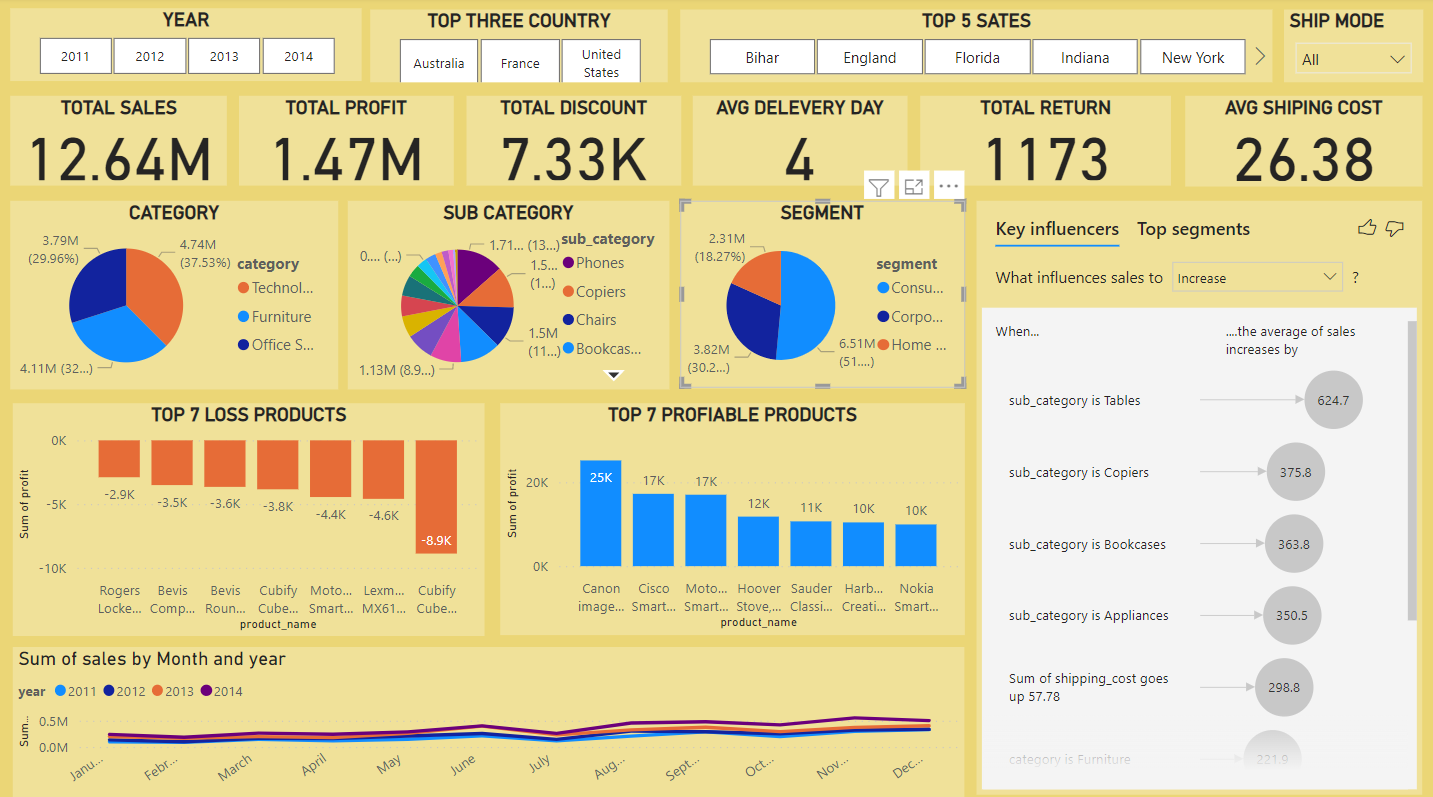

Layout of this report page (visuals, bound fields, positions):
{"tool":"powerbi","page":{"name":"Page 1","canvas":[1280,720],"ordinal":0},"visuals":[{"type":"card","title":"TOTAL SALES","fields":{"Values":["Sum(Orders.sales)"]},"box":[9.3,80.3,215.3,109.4],"z":0},{"type":"card","title":"AVG DELEVRY DAY","fields":{"Values":["Avg(Orders.dilevery day)"]},"box":[1033.3,80.3,229.2,109.4],"z":1000},{"type":"barChart","title":"TOP 5 PROFITABLE PRODUCTS","fields":{"Category":["Orders.product_name"],"Y":["Sum(Orders.profit)"]},"box":[8.6,344.7,305.6,198],"z":2000},{"type":"actionButton","box":[0,0,100,40],"z":3000},{"type":"slicer","title":"YEAR","fields":{"Values":["Orders.year"]},"box":[9.6,7.2,329.2,63.9],"z":4000},{"type":"slicer","title":"TOP THREE COUNTRY","fields":{"Values":["Orders.country"]},"box":[357,7.2,320.8,63.9],"z":5000},{"type":"pieChart","fields":{"Y":["Sum(Orders.sales)"],"Category":["Orders.category"]},"box":[8.6,202.9,298.3,129.6],"z":6000},{"type":"slicer","title":"TOP 5 STATES","fields":{"Values":["Orders.state"]},"box":[686.6,7.8,576.4,64.5],"z":7000},{"type":"card","title":"TOTAL RETURN","fields":{"Values":["CountNonNull(Returns.Returned)"]},"box":[501.5,80.3,267.6,109.4],"z":8000},{"type":"card","title":"TOTAL PROFIT","fields":{"Values":["Sum(Orders.profit)"]},"box":[232.7,80.3,251.3,109.4],"z":9000},{"type":"card","title":"AVG SHIPING COST","fields":{"Values":["Avg(Orders.shipping_cost)"]},"box":[782,80.3,232.7,109.4],"z":10000},{"type":"pieChart","fields":{"Category":["Orders.sub_category"],"Y":["Sum(Orders.sales)"]},"box":[319,202.9,297,129.6],"z":11000},{"type":"pieChart","fields":{"Y":["Sum(Orders.sales)"],"Category":["Orders.segment"]},"box":[627.1,202.9,331.3,129.6],"z":12000},{"type":"barChart","title":"TOP 5 LOSS PRODUCTS","fields":{"Category":["Orders.product_name"],"Y":["Sum(Orders.profit)"]},"box":[327.6,344.7,306.8,198],"z":13000},{"type":"lineChart","fields":{"Y":["Sum(Orders.sales)"],"Category":["Orders.order_date.Variation.Date Hierarchy.Month"],"Series":["Orders.year"]},"box":[9.8,553.8,948.6,155.2],"z":14000},{"type":"barChart","title":"TOP 5 PRODUCTS","fields":{"Category":["Orders.product_name"],"Y":["Sum(Orders.sales)"]},"box":[650.3,344.7,308,198],"z":15000},{"type":"keyDriversVisual","fields":{"Target":["Orders.sales"],"ExplainBy":["Orders.category","Orders.country","Orders.customer_name","Sum(Orders.dilevery day)","Sum(Orders.discount)","Orders.product_name","Orders.order_id","Orders.segment","Sum(Orders.shipping_cost)","Orders.state","Orders.sub_category","Sum(Orders.year)"]},"box":[970.6,202.9,292.2,504.9],"z":16000}]}

Visuals, with their boxes in screenshot pixels (x1, y1, x2, y2), scaled from the page's 1280x720 canvas onto the 1433x797 screenshot:
"TOTAL SALES" card: bbox(10, 89, 251, 210)
"AVG DELEVRY DAY" card: bbox(1157, 89, 1413, 210)
"TOP 5 PROFITABLE PRODUCTS" barChart: bbox(10, 382, 352, 601)
actionButton: bbox(0, 0, 112, 44)
"YEAR" slicer: bbox(11, 8, 379, 79)
"TOP THREE COUNTRY" slicer: bbox(400, 8, 759, 79)
pieChart - Sum(Orders.sales) x Orders.category: bbox(10, 225, 344, 368)
"TOP 5 STATES" slicer: bbox(769, 9, 1414, 80)
"TOTAL RETURN" card: bbox(561, 89, 861, 210)
"TOTAL PROFIT" card: bbox(261, 89, 542, 210)
"AVG SHIPING COST" card: bbox(875, 89, 1136, 210)
pieChart - Orders.sub_category x Sum(Orders.sales): bbox(357, 225, 690, 368)
pieChart - Sum(Orders.sales) x Orders.segment: bbox(702, 225, 1073, 368)
"TOP 5 LOSS PRODUCTS" barChart: bbox(367, 382, 710, 601)
lineChart - Sum(Orders.sales) x Orders.order_date.Variation.Date Hierarchy.Month: bbox(11, 613, 1073, 785)
"TOP 5 PRODUCTS" barChart: bbox(728, 382, 1073, 601)
keyDriversVisual - Orders.sales x Orders.category: bbox(1087, 225, 1414, 783)
